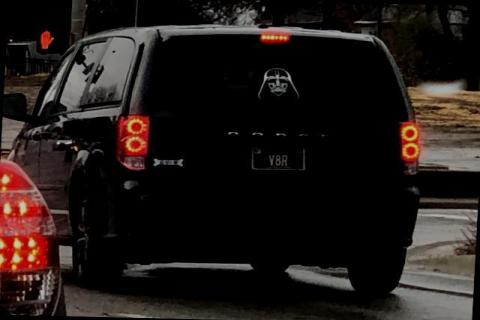LicensePlate: (248, 144, 304, 170)
